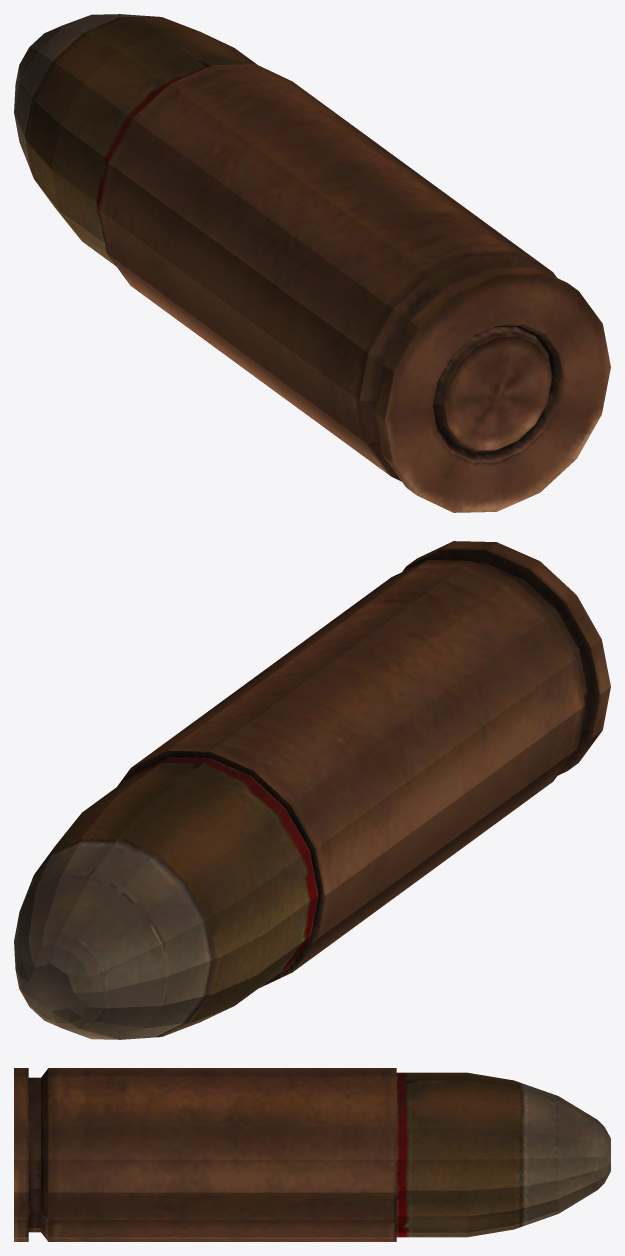
3 views of the same model, one above another, from view 1: azimuth 30°, elevation 25°; view 2: azimuth 150°, elevation 25°; view 3: azimuth 270°, elevation 25° (orthographic). The views are drawn at different scales.
Visible parts, largest first — view 1: TW_5a26ac06c4a282000c5a90a8_PZ_Import; view 2: TW_5a26ac06c4a282000c5a90a8_PZ_Import; view 3: TW_5a26ac06c4a282000c5a90a8_PZ_Import.
Part boxes in pixels (x1,y1,x2,y2): TW_5a26ac06c4a282000c5a90a8_PZ_Import: (14, 14, 610, 512); TW_5a26ac06c4a282000c5a90a8_PZ_Import: (14, 541, 610, 1039); TW_5a26ac06c4a282000c5a90a8_PZ_Import: (14, 1068, 610, 1241).
Size of the model in its own units: 0.00552 by 0.0189 by 0.00552.
Materials: 1 (1 with a texture image).
